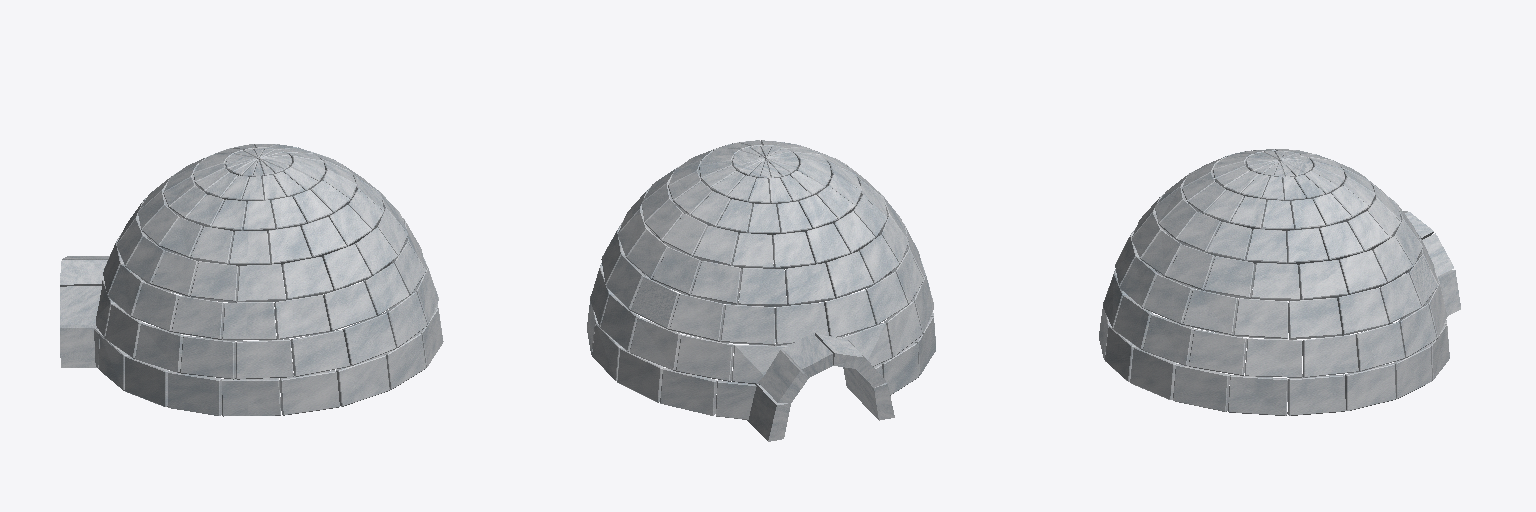
3 renders of one model, left to right at view 1: azimuth 30°, elevation 25°; view 2: azimuth 150°, elevation 25°; view 3: azimuth 270°, elevation 25°, orthographic.
Visible parts, largest first — view 1: Iglu_Mat; view 2: Iglu_Mat; view 3: Iglu_Mat.
Boxes of the visible parts, x1,y1,x2,y2 form: Iglu_Mat: [60, 144, 443, 416]; Iglu_Mat: [587, 140, 935, 441]; Iglu_Mat: [1099, 149, 1460, 415].
Size of the model in its own units: 9.07 by 5.24 by 8.84.
1 materials, 1 textured.